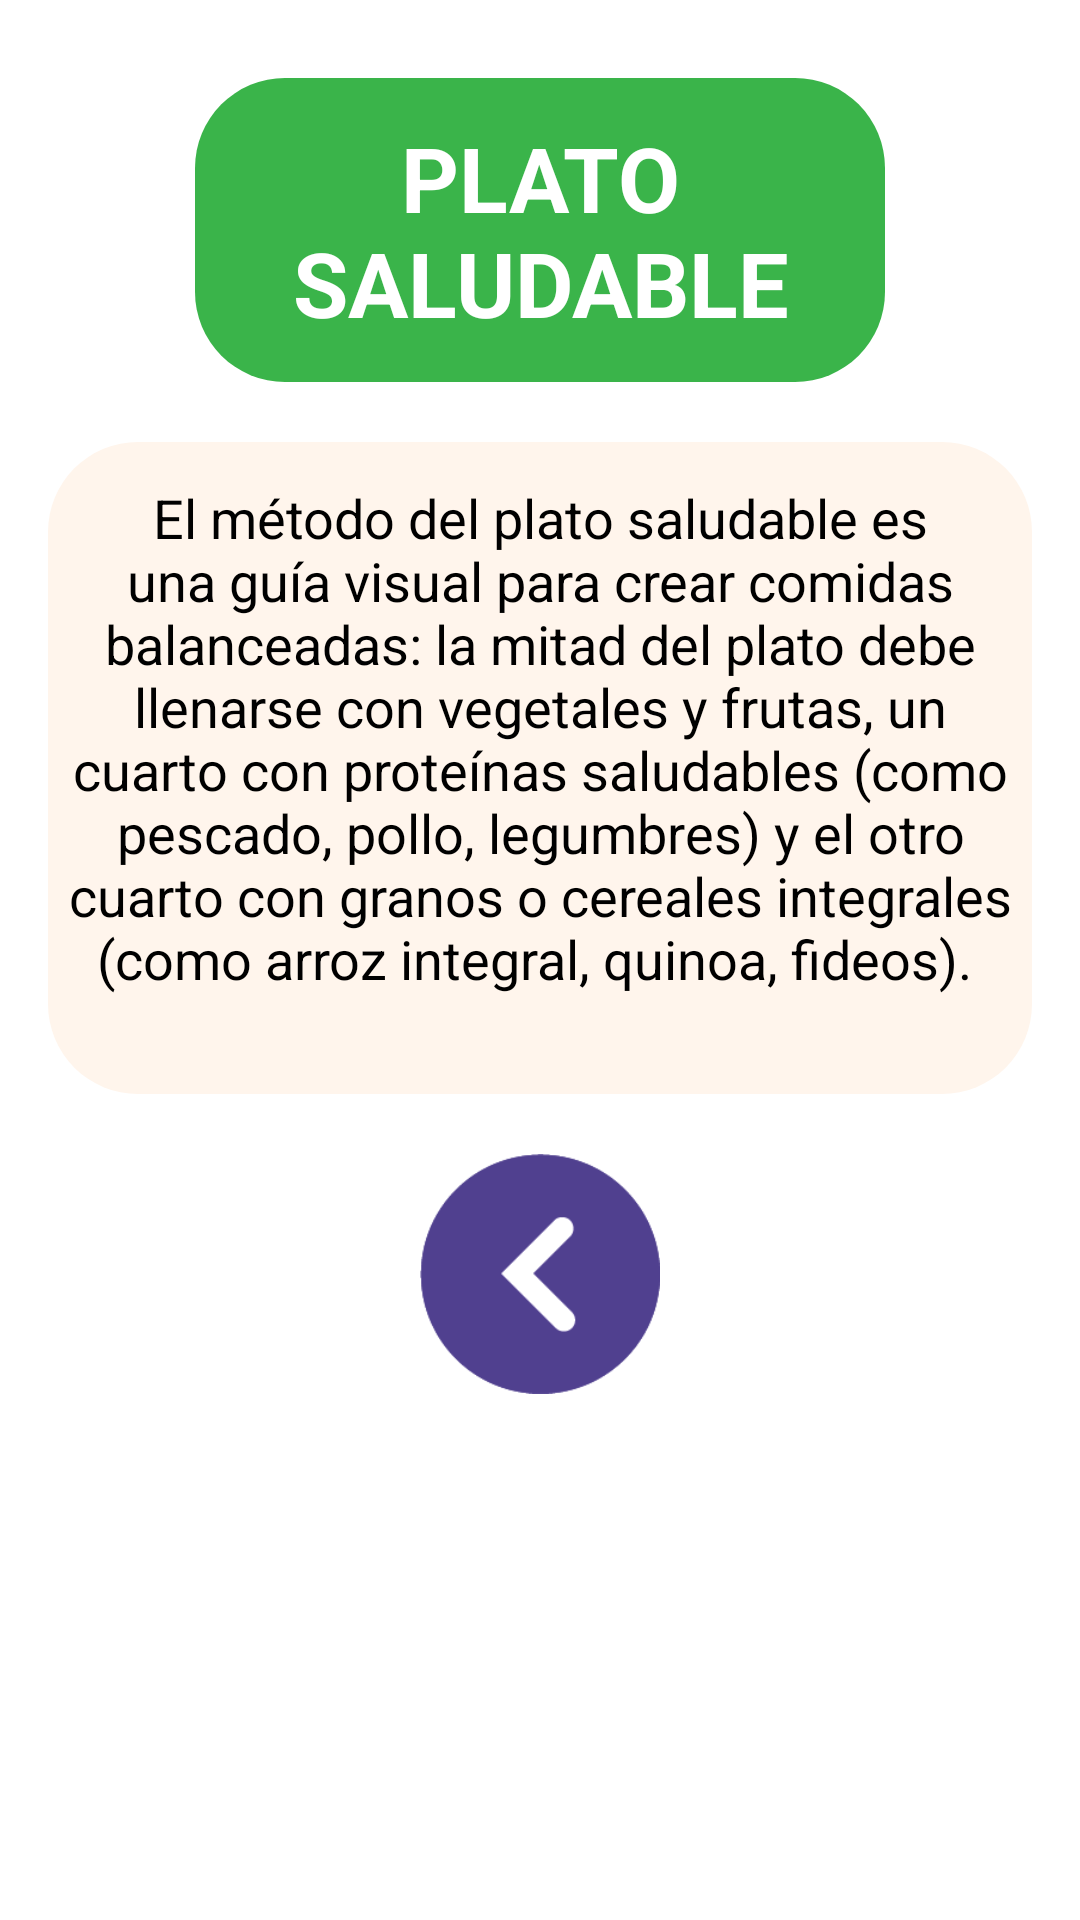

Where to tap for icons on this 1080px×1920px app screen, as (x=x, y=y):
Volver a pagina recetas: (x=540, y=1274)
